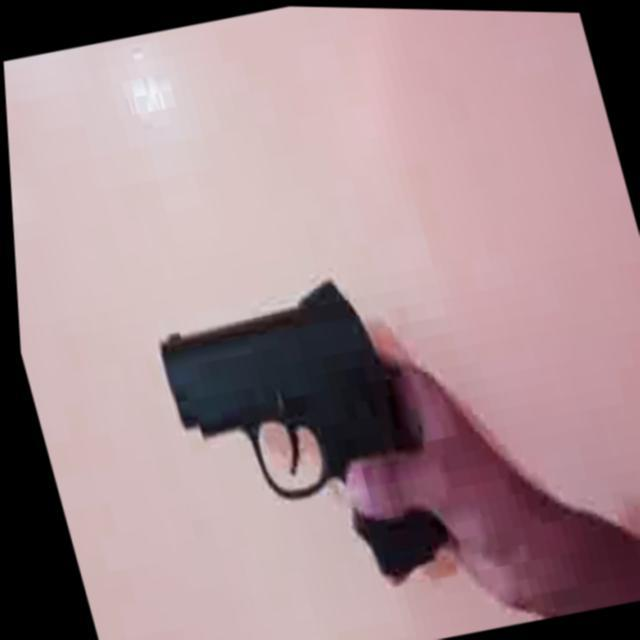weapon: (139, 206, 640, 640)
